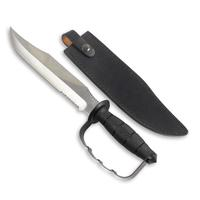knife: (7, 24, 149, 165)
